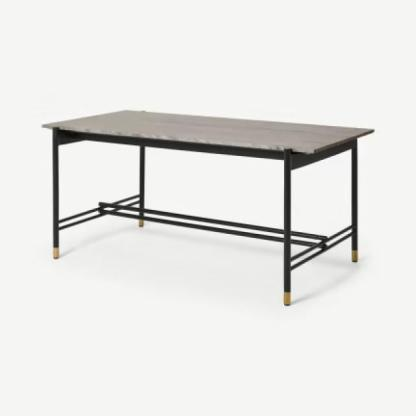Table: (17, 88, 402, 316)
